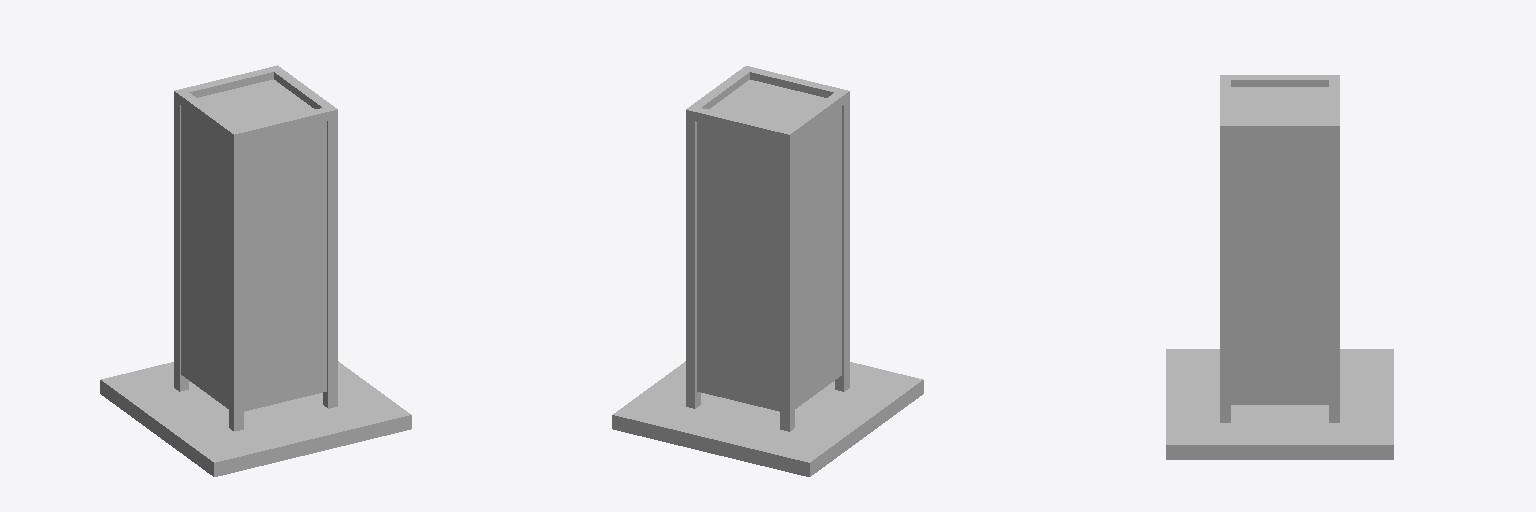
Rendered from WaterLantern2_low.obj.
The picture shows the model from 3 angles: view 1: azimuth 30°, elevation 25°; view 2: azimuth 150°, elevation 25°; view 3: azimuth 270°, elevation 25°; orthographic projection.
Parts seen in each view (by area): view 1: pCube21; view 2: pCube21; view 3: pCube21.
Part boxes in pixels (left/top/right/bottom): pCube21: left=100, top=65, right=411, bottom=476; pCube21: left=612, top=66, right=923, bottom=476; pCube21: left=1166, top=75, right=1393, bottom=459.
Bounding box in the file's own units: 13.55 × 20.46 × 13.55.